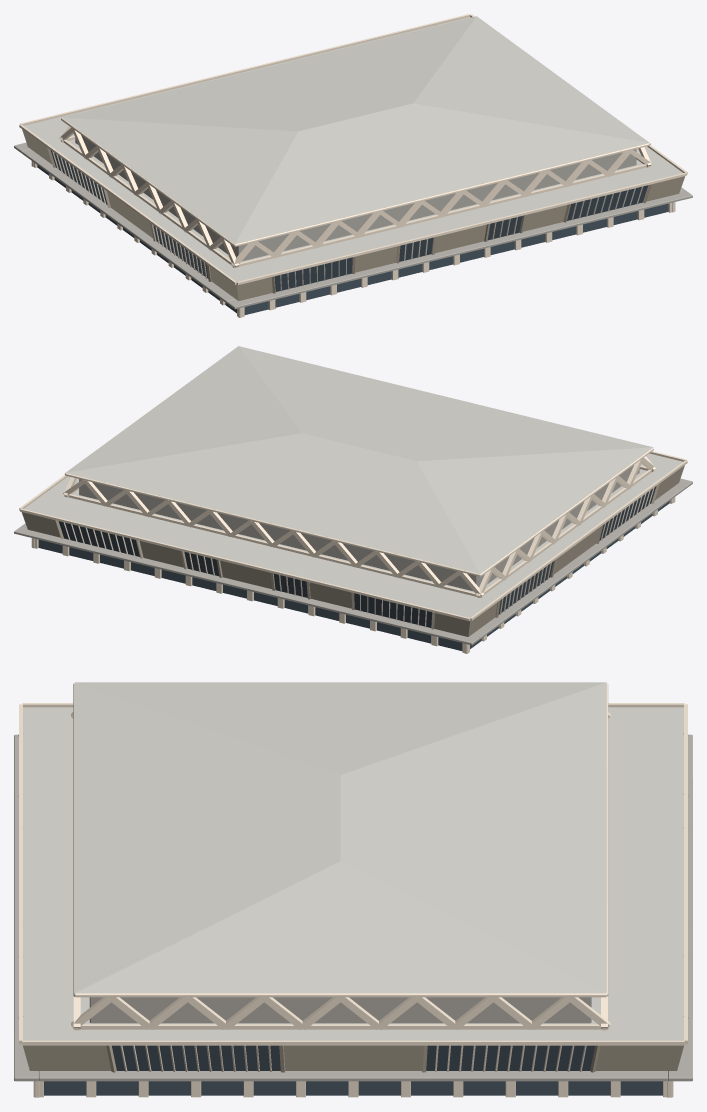
File: la-pauley-pavilion.glb
3 renders of one model, top to bottom at view 1: azimuth 30°, elevation 25°; view 2: azimuth 150°, elevation 25°; view 3: azimuth 270°, elevation 25°, orthographic. The views are drawn at different scales.
Parts seen in each view (by area): view 1: Pauley Pavilion; view 2: Pauley Pavilion; view 3: Pauley Pavilion.
Boxes of the visible parts, <box> form: Pauley Pavilion: <box>14,14,692,317</box>; Pauley Pavilion: <box>14,346,692,653</box>; Pauley Pavilion: <box>14,682,692,1097</box>.
Size of the model in its own units: 128 by 19.9 by 107.
